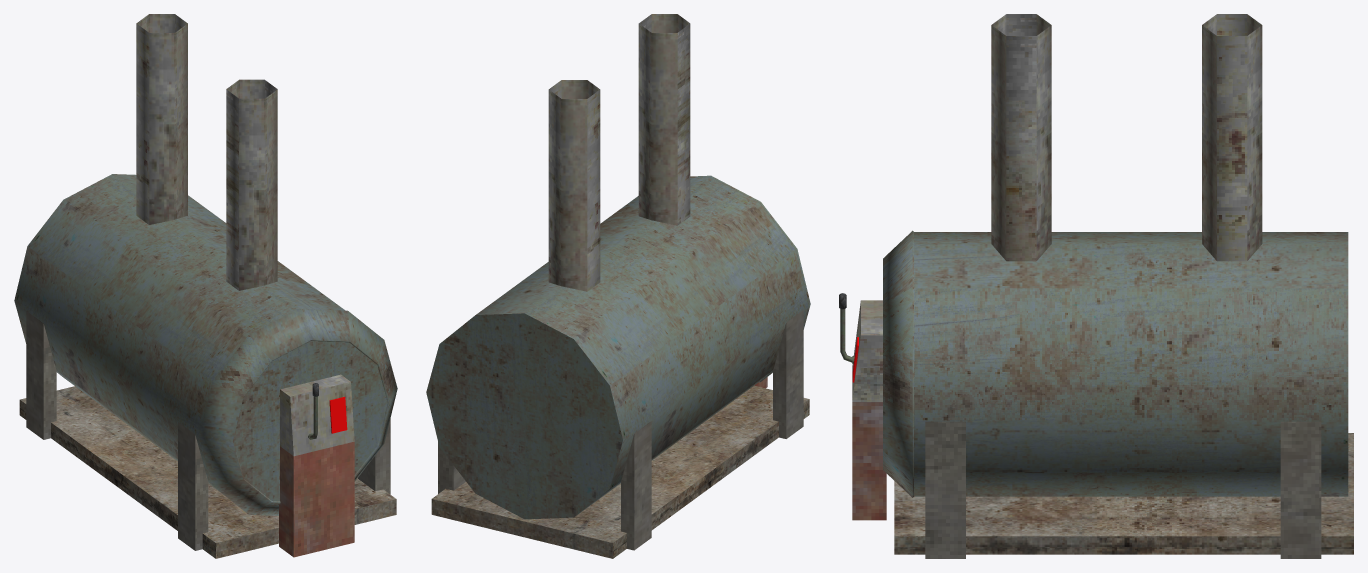
The model's file is _Boiler_1.FBX.
The picture shows the model from 3 angles, left to right: view 1: azimuth 30°, elevation 25°; view 2: azimuth 150°, elevation 25°; view 3: azimuth 270°, elevation 25°; orthographic projection. The views are drawn at different scales.
Visible parts, largest first — view 1: _Boiler_1, _BoilerLamp; view 2: _Boiler_1; view 3: _Boiler_1.
Boxes of the visible parts, bbox=[...] form: _Boiler_1: bbox=[14, 14, 397, 558]; _BoilerLamp: bbox=[329, 397, 347, 433]; _Boiler_1: bbox=[426, 14, 810, 558]; _Boiler_1: bbox=[852, 14, 1353, 558].
Bounding box in the file's own units: 131 × 258 × 252.
8 materials, 7 textured.
